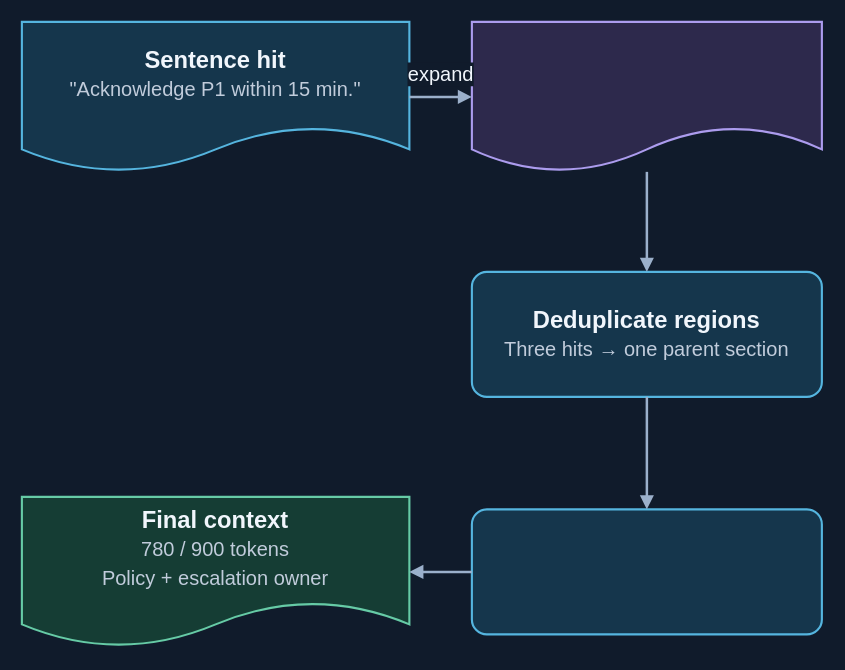
Some shapes in this 845 by 670 pixel diagram are drawn without their labels. Each missing label, with the box of its shape:
Pack within budget 520 policy + 260 escalation: (470, 508, 822, 635)
Parent section Deadline + scope + exception: (470, 20, 822, 172)
